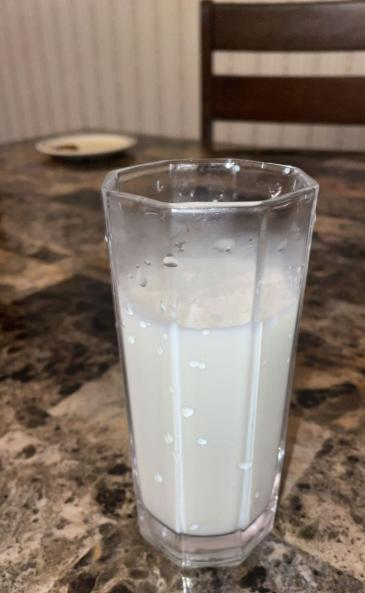produk_susu: (114, 165, 304, 531)
